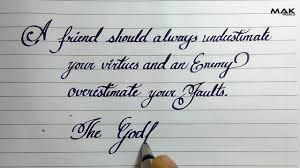text: (21, 16, 274, 56), (59, 50, 251, 82), (66, 79, 229, 111), (69, 114, 161, 156), (269, 5, 296, 17)
